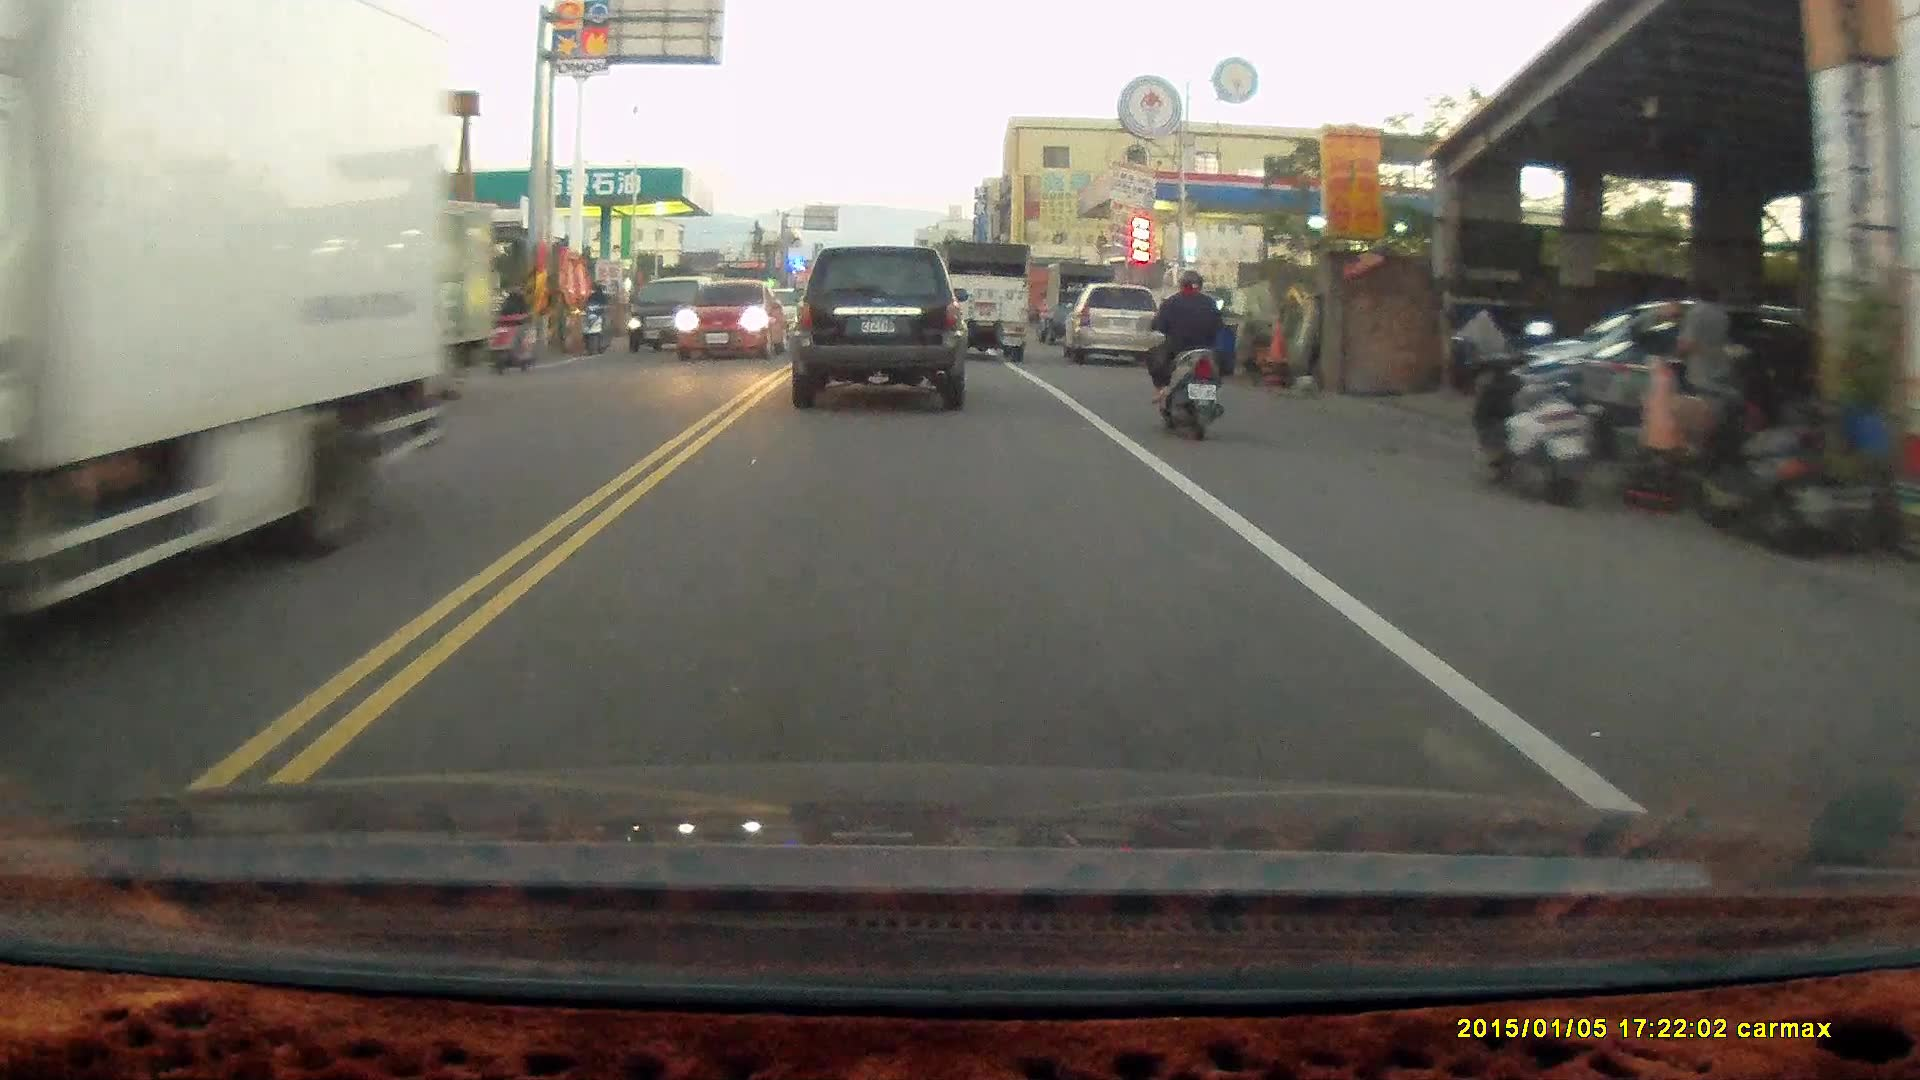pedestrian: (1677, 281, 1732, 433)
rider: (1143, 268, 1234, 444), (477, 281, 544, 372), (580, 279, 614, 352)
vehicle: (1, 24, 447, 657), (786, 243, 969, 412), (939, 238, 1032, 361), (674, 284, 792, 361), (1067, 284, 1162, 369), (627, 276, 720, 353)
